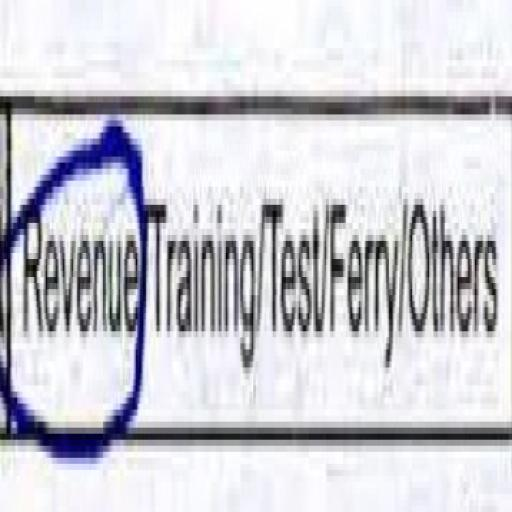check: (0, 0, 143, 488)
